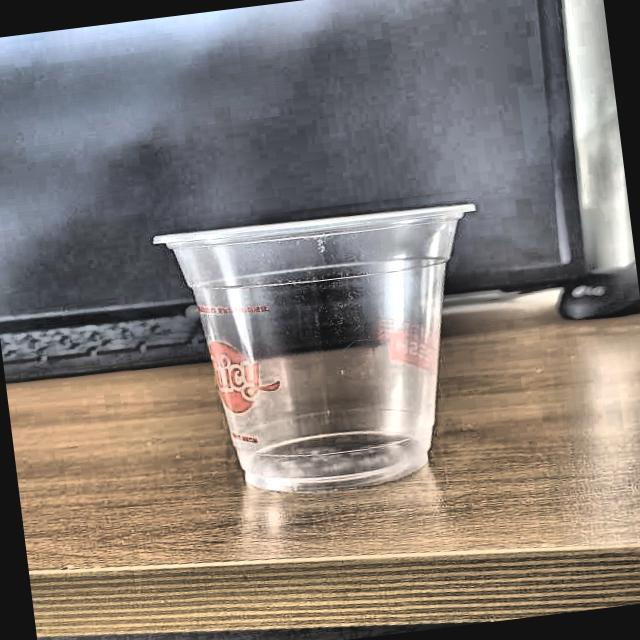plastic cup: (149, 195, 512, 504)
